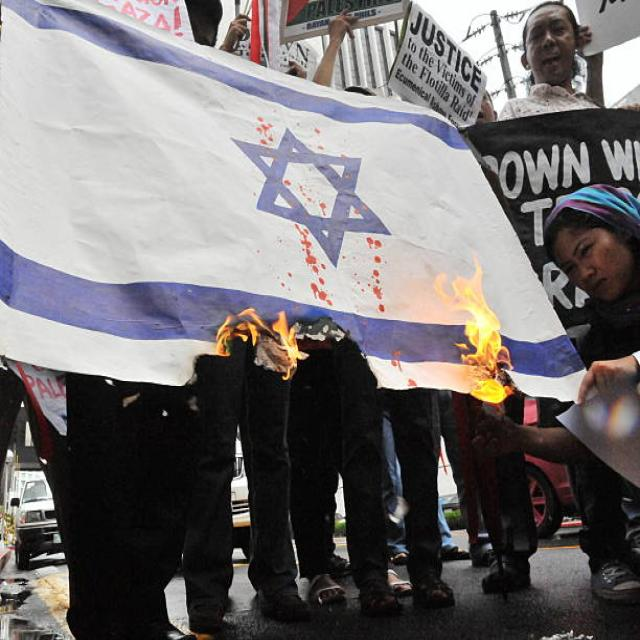fire: (435, 249, 516, 405), (212, 308, 301, 380)
